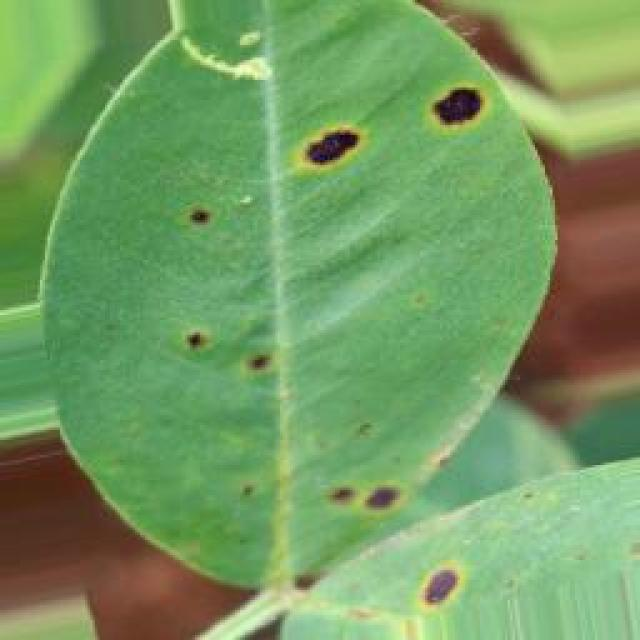Sigatoka: (160, 307, 283, 388), (278, 110, 376, 194), (416, 69, 498, 160), (304, 461, 411, 513), (401, 552, 488, 610), (182, 188, 220, 261)
